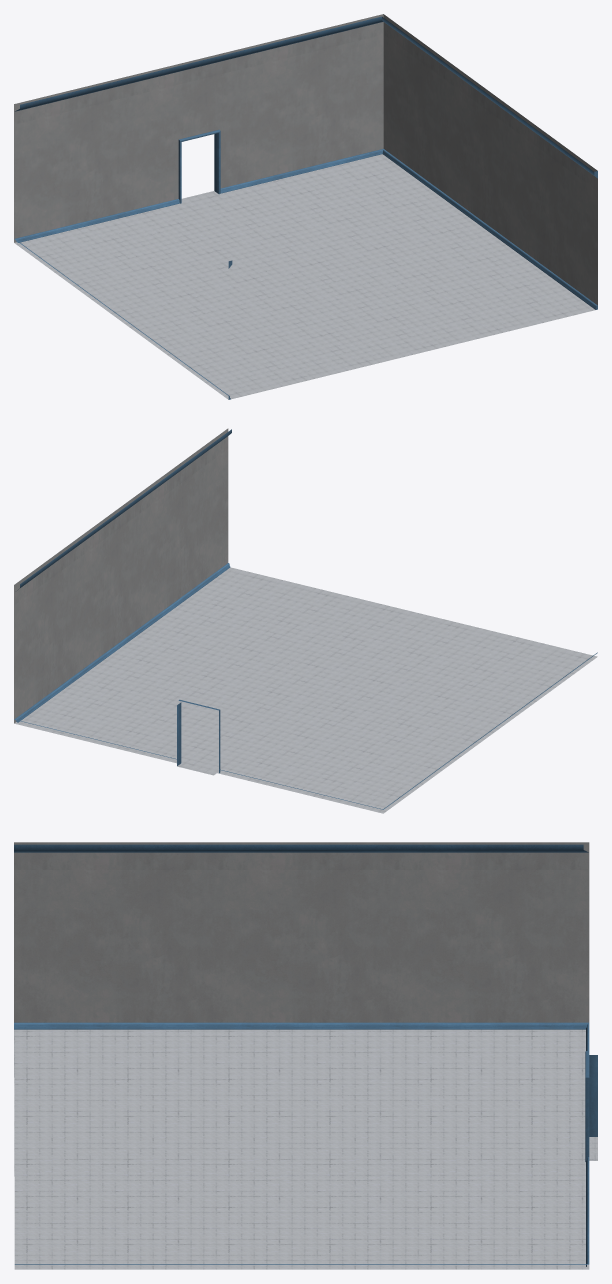
Rendered from PZ_ckpt2.glb.
3 views of the same model, one above another, from view 1: azimuth 30°, elevation 25°; view 2: azimuth 150°, elevation 25°; view 3: azimuth 270°, elevation 25° (orthographic). The views are drawn at different scales.
Parts seen in each view (by area): view 1: PZ_HallwayI; view 2: PZ_HallwayI; view 3: PZ_HallwayI.
Part boxes in pixels (x1=…): PZ_HallwayI: x1=14, y1=14, x2=597, y2=399; PZ_HallwayI: x1=14, y1=428, x2=597, y2=813; PZ_HallwayI: x1=14, y1=842, x2=597, y2=1269.
Bounding box in the file's own units: 20.08 × 7.2 × 20.5.
3 materials, 3 textured.
